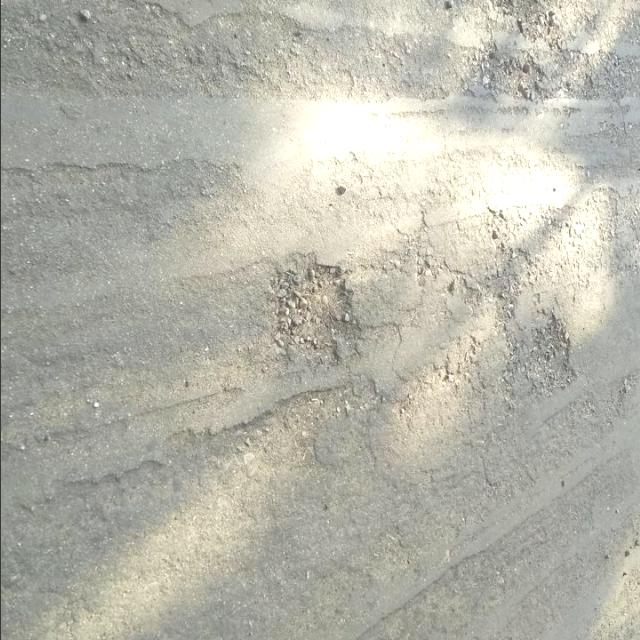pothole: (252, 254, 374, 380), (451, 2, 575, 116), (490, 297, 586, 404), (442, 218, 541, 308)
